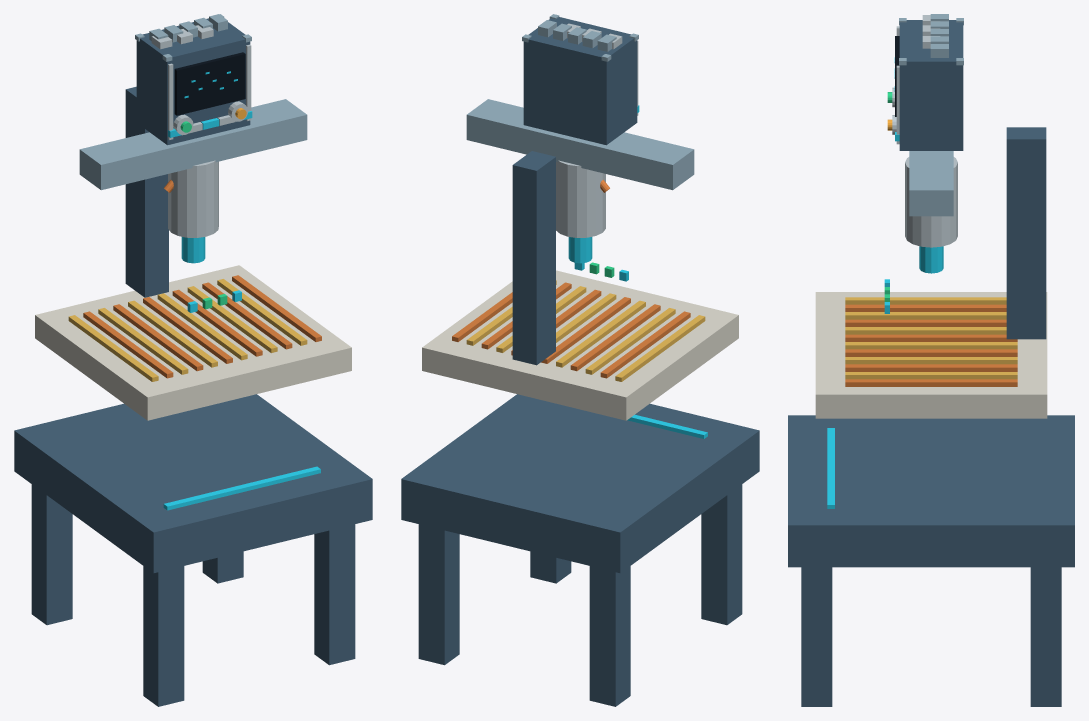
File: 48_L78_WaferStressBowScanner.fbx
3 views of the same model, side by side, from view 1: azimuth 30°, elevation 25°; view 2: azimuth 150°, elevation 25°; view 3: azimuth 270°, elevation 25° (orthographic). The views are drawn at different scales.
Visible parts, largest first — view 1: WaferStressBowScanner; view 2: WaferStressBowScanner; view 3: WaferStressBowScanner.
Boxes of the visible parts, x1,y1,x2,y2 form: WaferStressBowScanner: [14, 14, 372, 706]; WaferStressBowScanner: [401, 14, 759, 706]; WaferStressBowScanner: [788, 14, 1074, 706].
Bounding box in the file's own units: 118 × 313 × 130.
